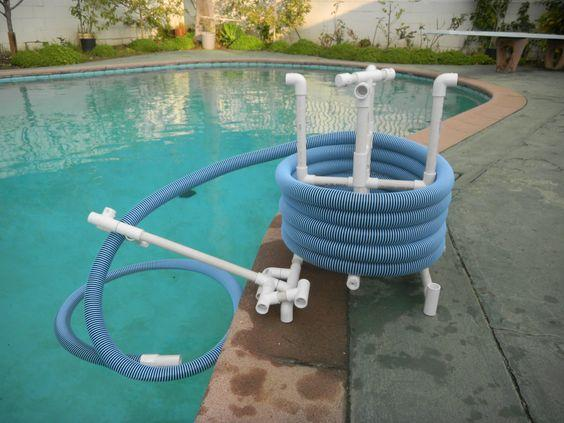PVC: (71, 205, 254, 281), (254, 264, 309, 326), (420, 74, 451, 181), (288, 72, 311, 184), (350, 87, 373, 190), (302, 173, 420, 190), (335, 69, 397, 87), (422, 283, 444, 317), (143, 350, 180, 370)
